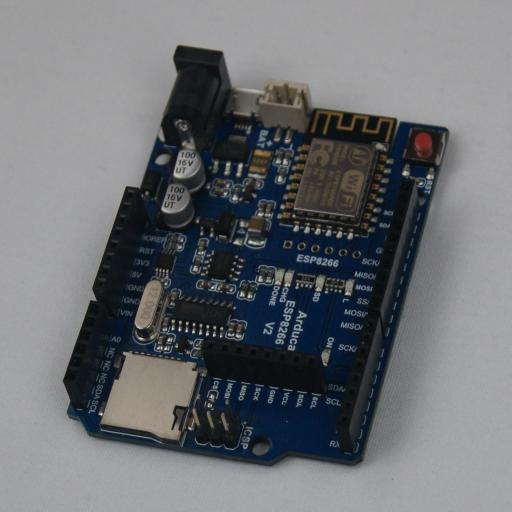Arduino Uno Camera Shield: (63, 45, 449, 467)
